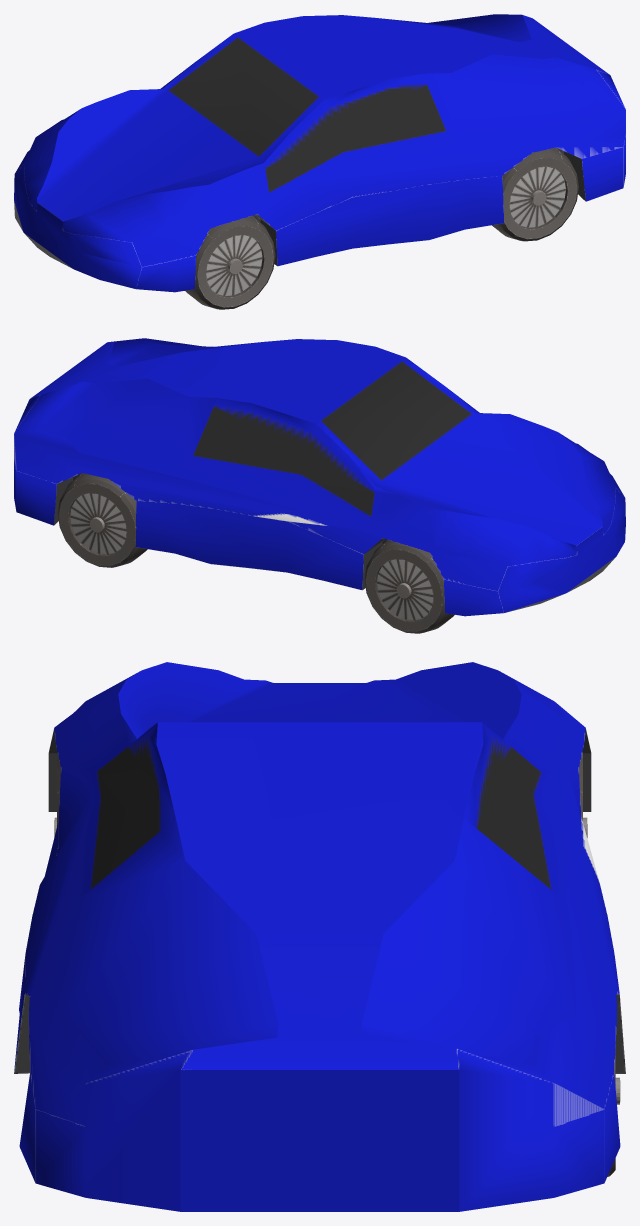
Rendered from NpcVehicle_1.fbx.
The picture shows the model from 3 angles, top to bottom: view 1: azimuth 30°, elevation 25°; view 2: azimuth 150°, elevation 25°; view 3: azimuth 270°, elevation 25°; orthographic projection. The views are drawn at different scales.
Visible parts, largest first — view 1: pCube1, pasted__pCylinder1, pasted__pasted__pCylinder1; view 2: pCube1, pasted__pasted__pasted__pCylinder1, pasted__pasted__pCylinder1; view 3: pCube1.
Boxes of the visible parts, x1,y1,x2,y2 form: pCube1: (14, 14, 625, 292); pasted__pCylinder1: (185, 216, 275, 309); pasted__pasted__pCylinder1: (492, 148, 578, 241); pCube1: (14, 338, 625, 616); pasted__pasted__pasted__pCylinder1: (57, 473, 147, 567); pasted__pasted__pCylinder1: (364, 540, 454, 633); pCube1: (14, 662, 625, 1211).
Size of the model in its own units: 934 by 279 by 518.
5 materials, 5 textured.
